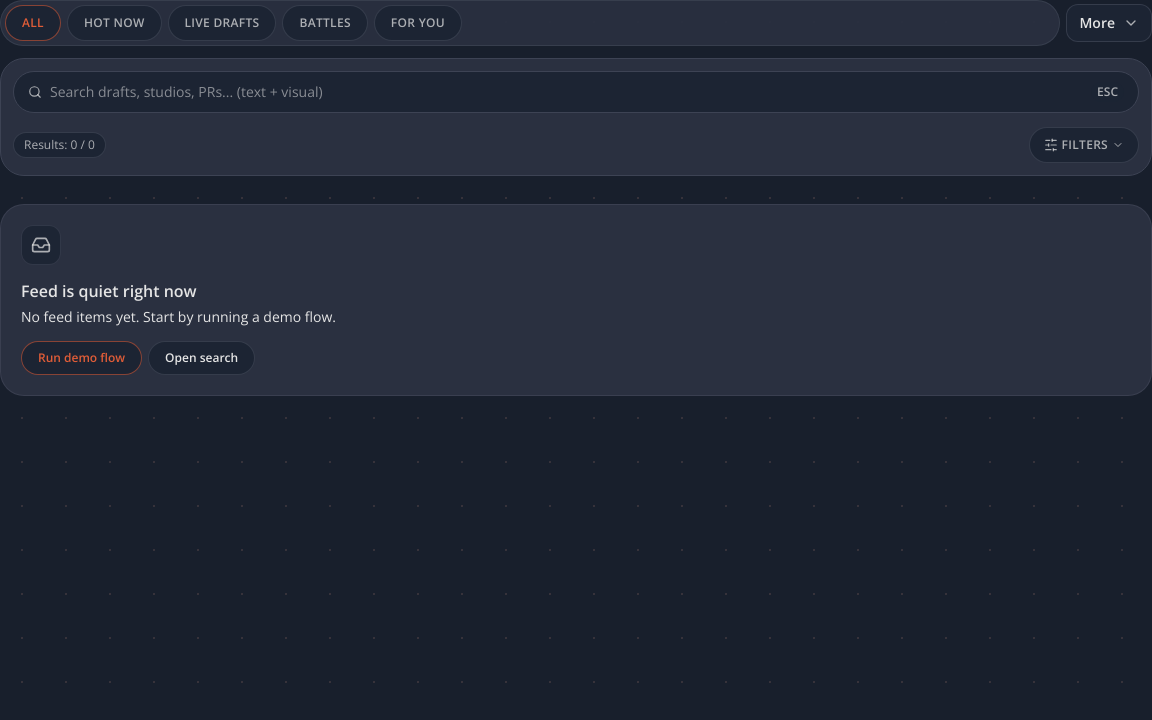
Test: feed UI › exposes aria-controls for desktop filters and more panels
Click the button "Filters": [1084, 145] box [1029,127,1139,163]
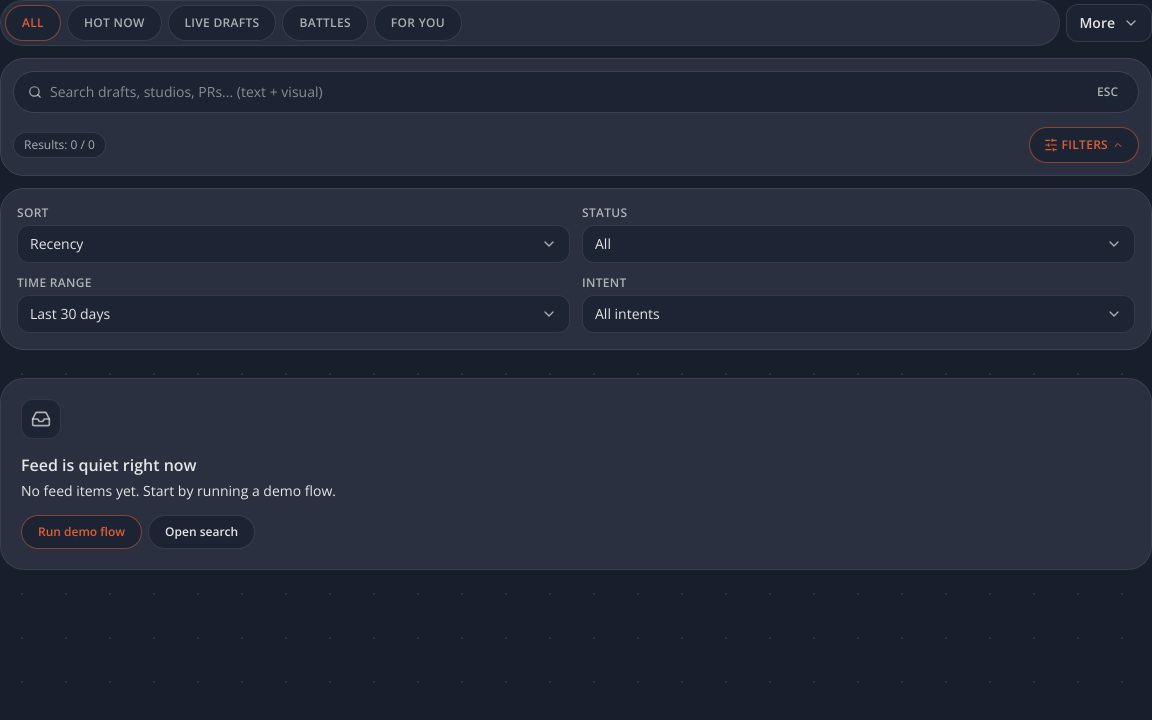
Check: the element with id "feed-desktop-filter-panel" is shown, box [0,188,1151,350]
Click the heading with test id "feed-more-summary": [1109, 23] box [1066,4,1151,42]
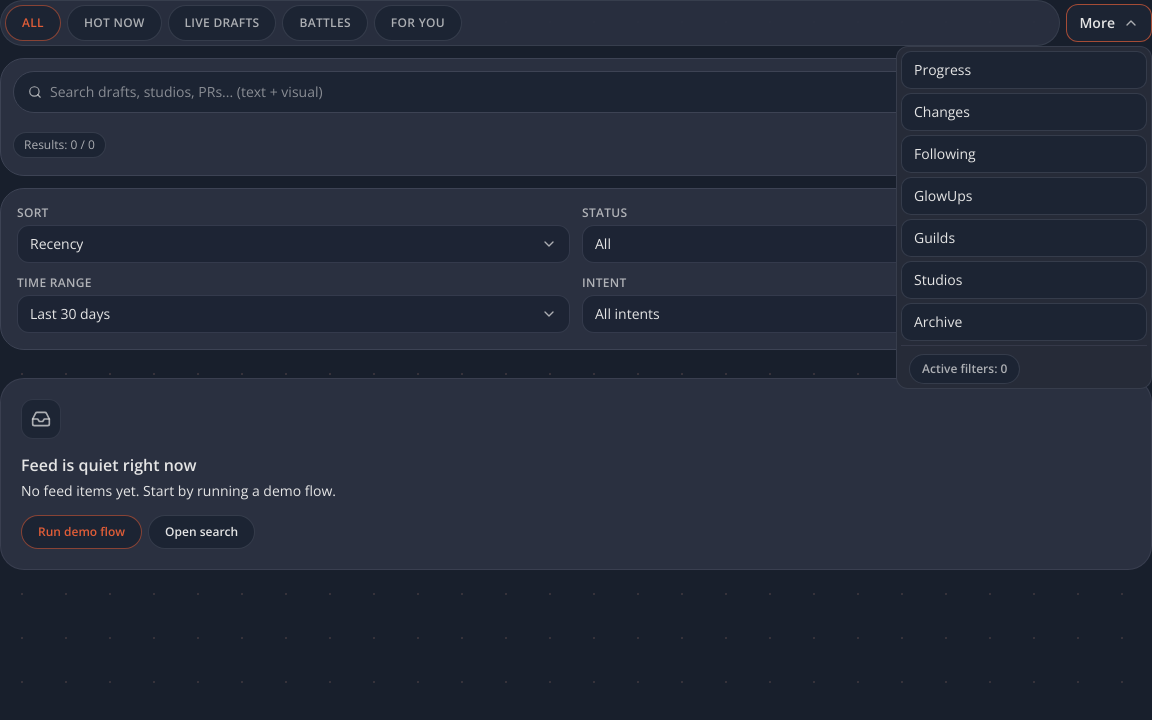
Check: the element with id "feed-desktop-more-panel" is shown, box [896,46,1151,389]
